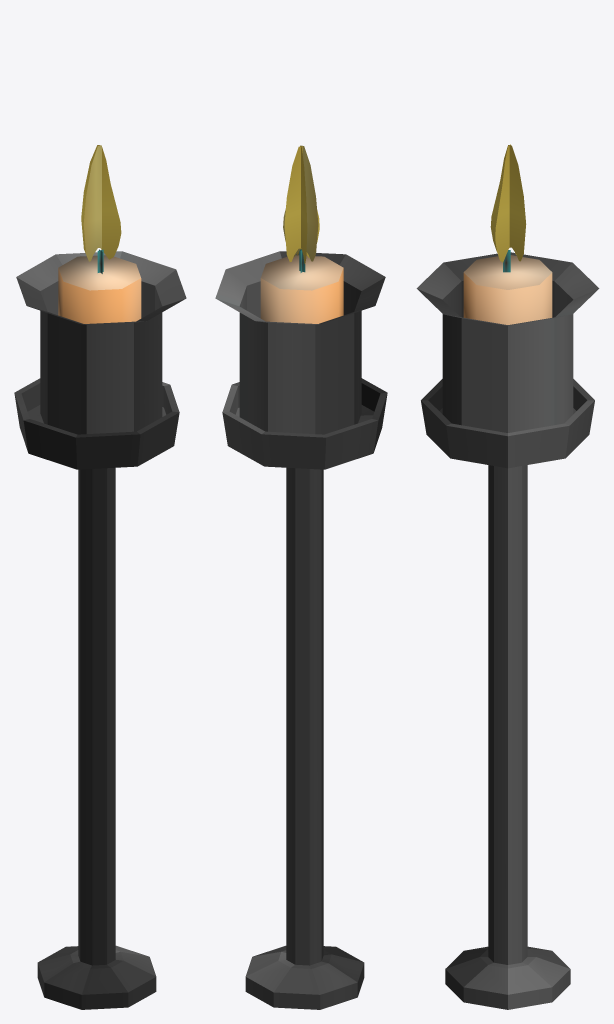
Rendered from Candle_338x15.obj.
3 views of the same model, side by side, from view 1: azimuth 30°, elevation 25°; view 2: azimuth 150°, elevation 25°; view 3: azimuth 270°, elevation 25° (orthographic).
Visible parts, largest first — view 1: Candle_338x15; view 2: Candle_338x15; view 3: Candle_338x15.
Part boxes in pixels (<box>): Candle_338x15: <box>14,145,186,1009</box>; Candle_338x15: <box>215,145,387,1009</box>; Candle_338x15: <box>416,144,599,1009</box>.
Bounding box in the file's own units: 0.3876 × 2.3 × 0.401.
